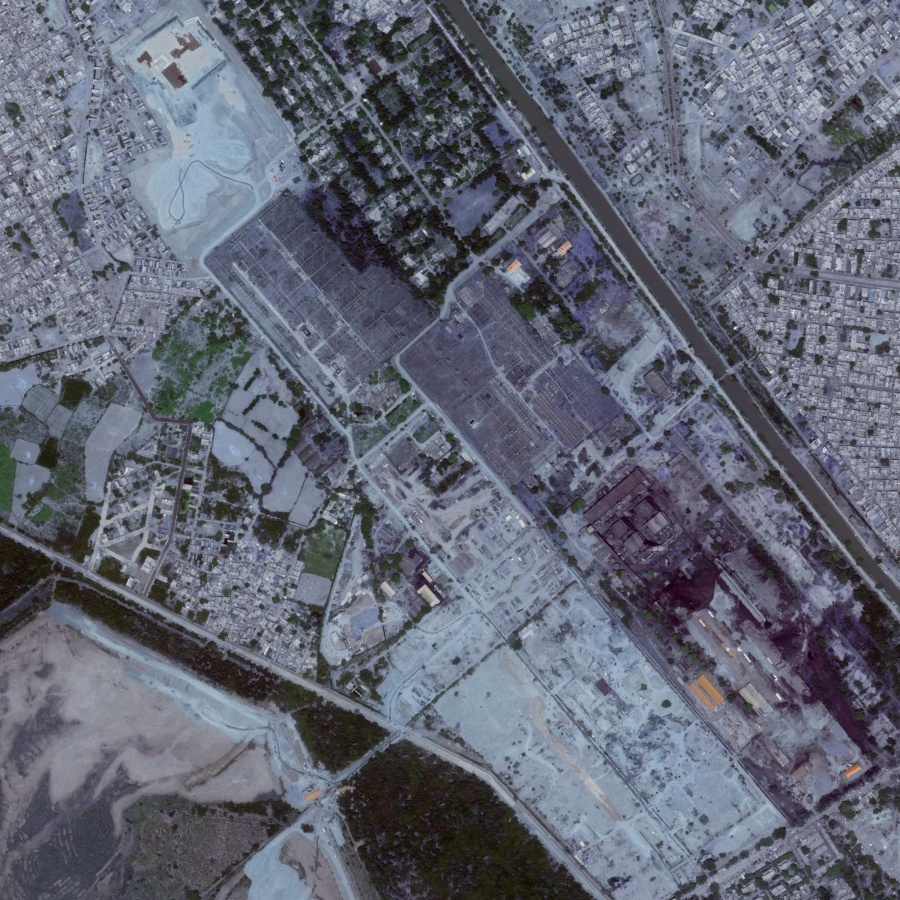PowerPlant: (584, 461, 883, 784)
